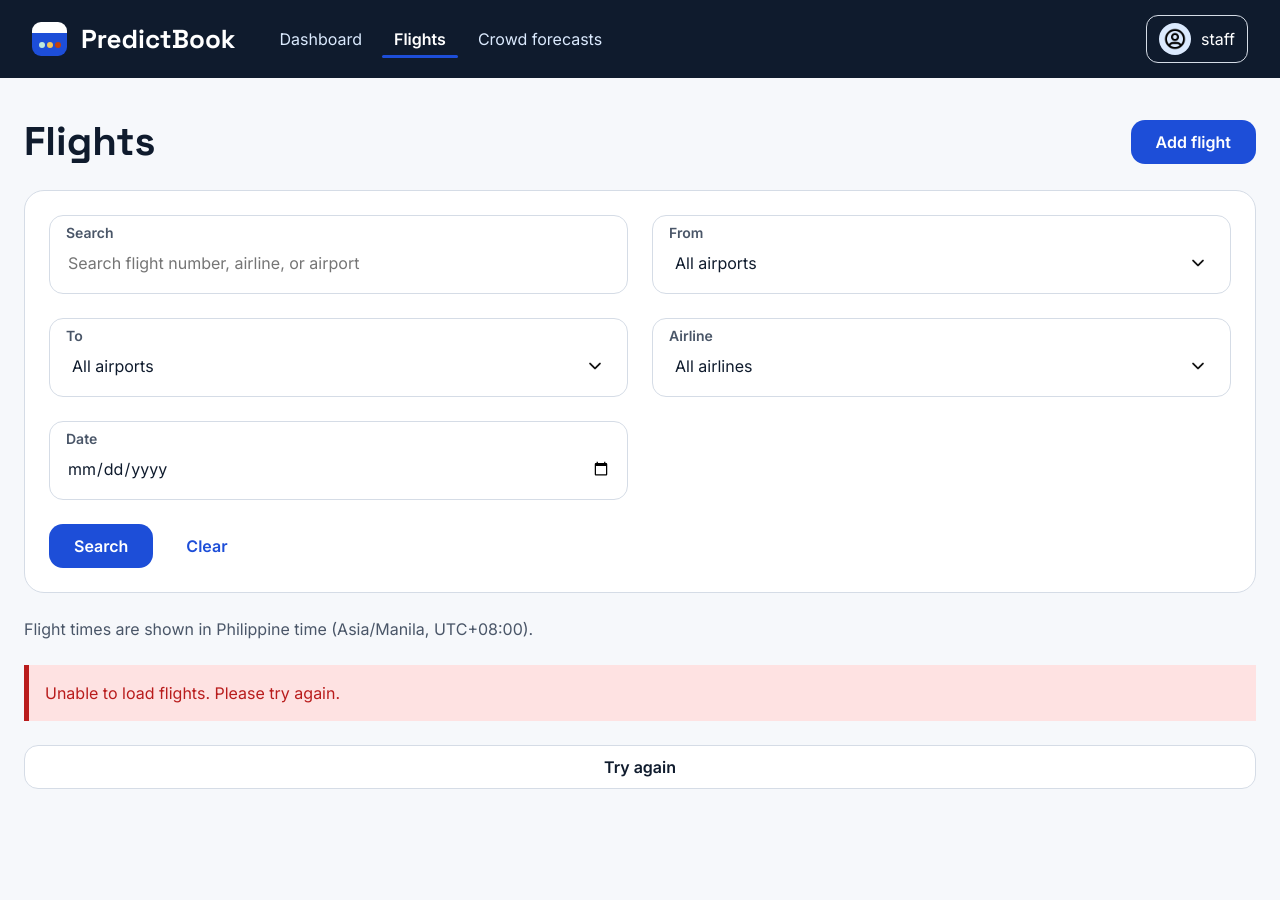
Test: shows an error and permits retry
Expected: the message "Unable to load flights. Please try again." is shown, [24,665,1256,721]
Click the button "Try again".
click(640, 767)  # box [24,745,1256,789]
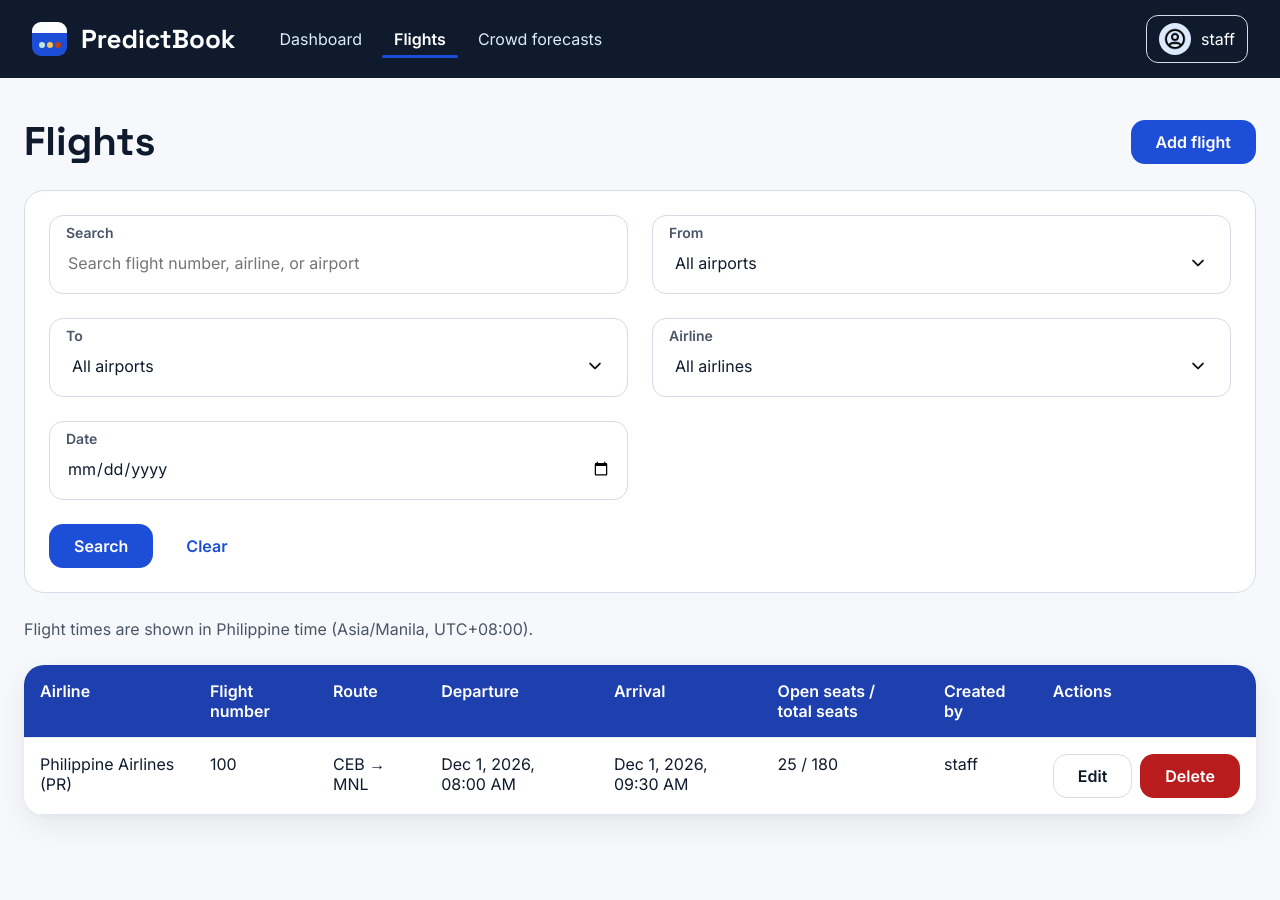
Expected: the table is shown, [24,665,1256,815]
